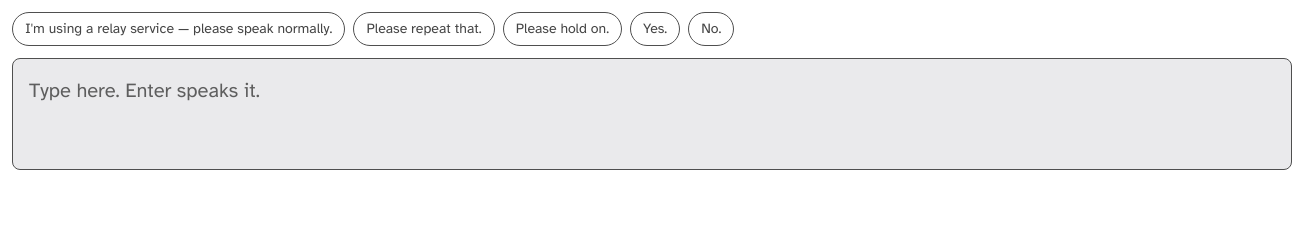
Test case: Composer typo correction › fixes a word once it is finished
Type "teh " into the text box named "type what you want said".
click(652, 114); type("teh ")  # box [12,58,1292,170]
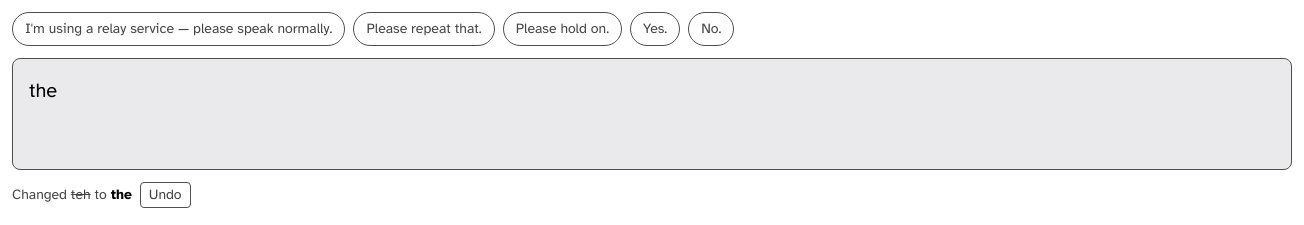
Expected: the text box named "type what you want said" holds "the ", [12,58,1292,170]
